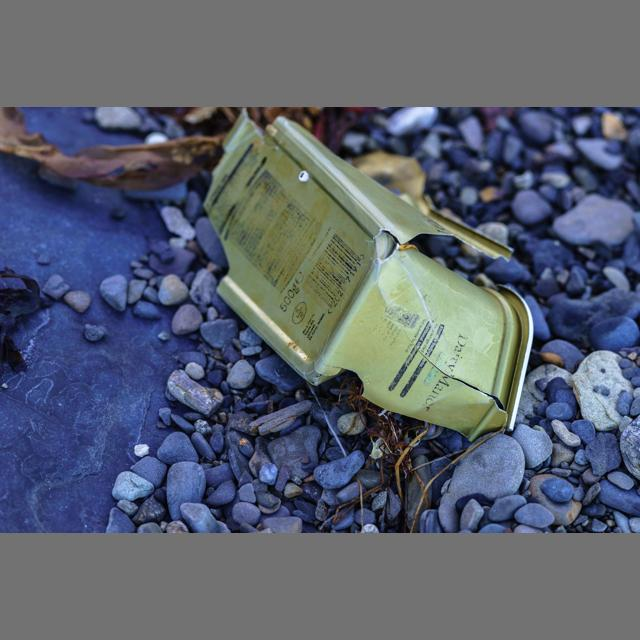litter: (204, 108, 533, 444)
